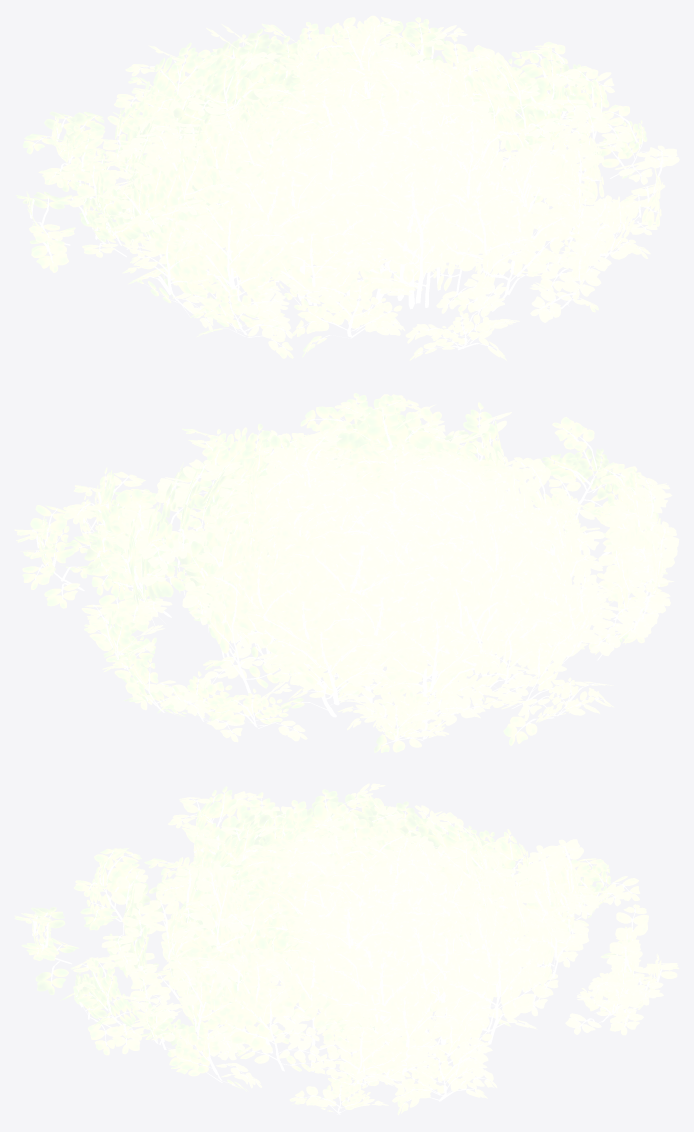
3 views of the same model, one above another, from view 1: azimuth 30°, elevation 25°; view 2: azimuth 150°, elevation 25°; view 3: azimuth 270°, elevation 25° (orthographic). The views are drawn at different scales.
Parts seen in each view (by area): view 1: SM_BM_Medium_Bush_Meadows_B_LOD0; view 2: SM_BM_Medium_Bush_Meadows_B_LOD0; view 3: SM_BM_Medium_Bush_Meadows_B_LOD0.
Boxes of the visible parts, <box> form: SM_BM_Medium_Bush_Meadows_B_LOD0: <box>16,15,679,360</box>; SM_BM_Medium_Bush_Meadows_B_LOD0: <box>14,393,679,752</box>; SM_BM_Medium_Bush_Meadows_B_LOD0: <box>14,783,679,1115</box>.
Bounding box in the file's own units: 3.39 × 1.26 × 3.62.
Materials: 1 (1 with a texture image).
